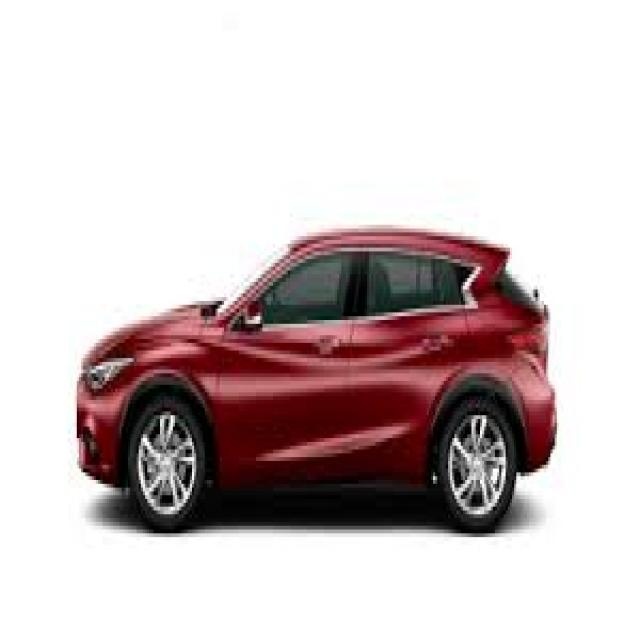Car: (73, 224, 563, 557)
